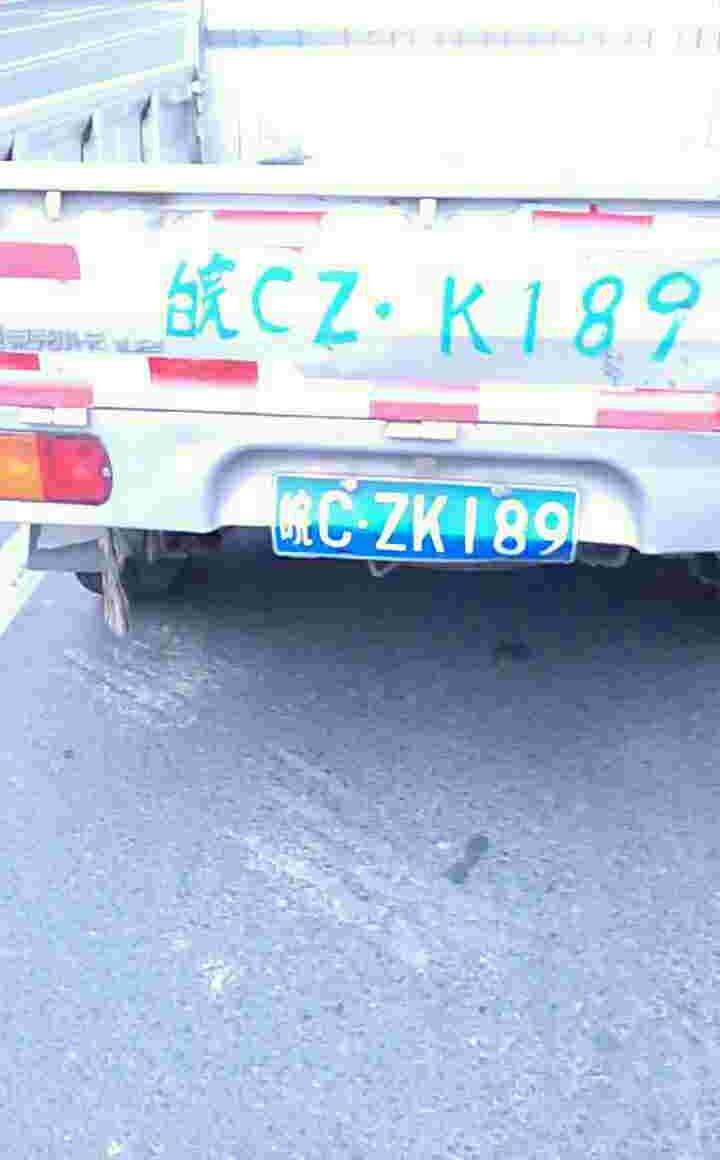license_plate: (264, 472, 587, 565)
